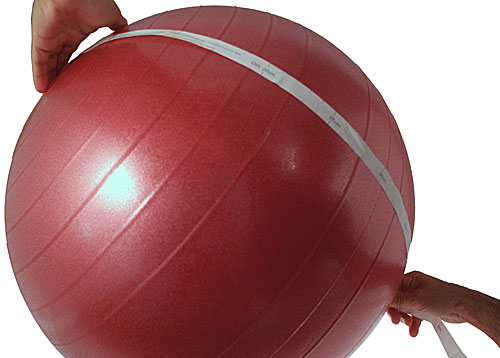red ball: (2, 5, 416, 356)
